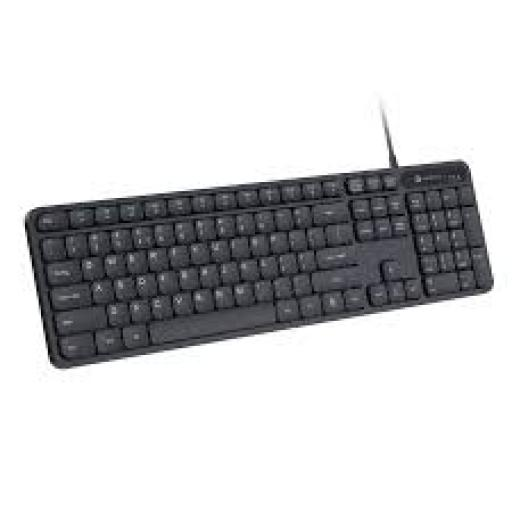KEYBOARD-2: (27, 162, 492, 366)
